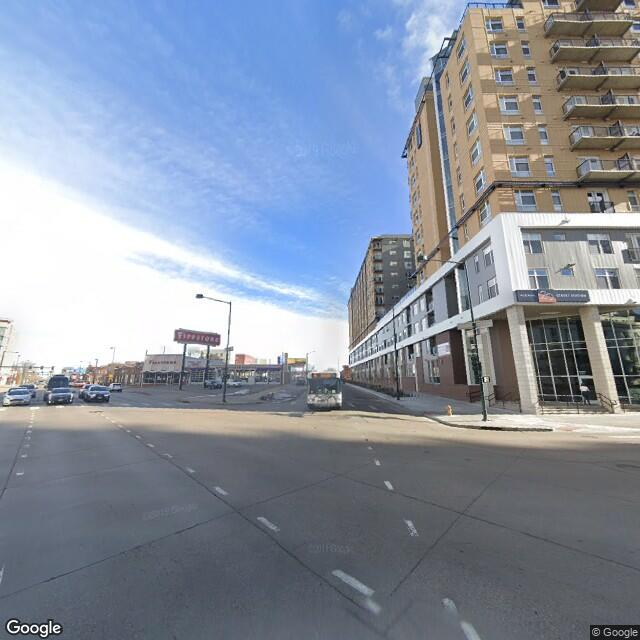fh: (442, 402, 457, 415)
lamp: (194, 288, 233, 406)
